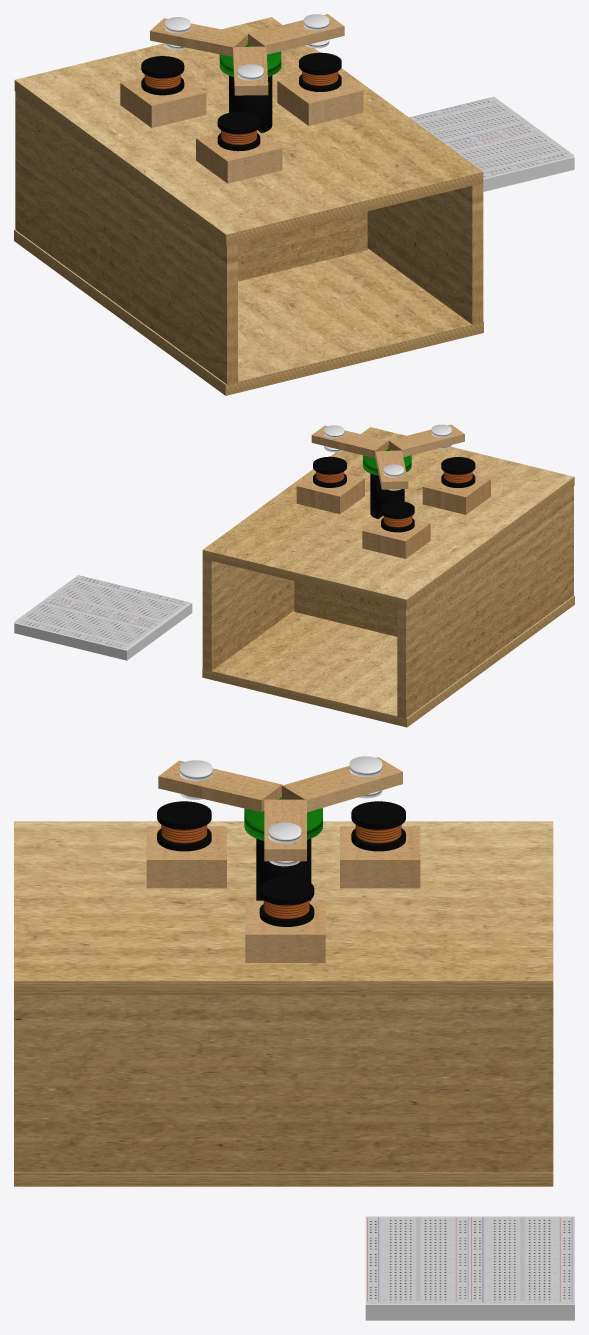
Rendered from everything.glb.
The picture shows the model from 3 angles, top to bottom: view 1: azimuth 30°, elevation 25°; view 2: azimuth 150°, elevation 25°; view 3: azimuth 270°, elevation 25°; orthographic projection. The views are drawn at different scales.
Parts seen in each view (by area): view 1: Cube.001, Cube.002, Cube, Cube.003, Plane.002, Cube.004, Cube.010, Cube.011, Cube.009, Cube.007, Cube.005, Cube.006 (+6 smaller); view 2: Cube.001, Cube.002, Cube, Plane.002, Cube.003, Cube.004, Cube.008, Cube.009, Cube.011, Cube.010, Cube.005, Cube.006 (+5 smaller); view 3: Cube.003, Cube.001, Plane.002, Cube, Cube.008, Cube.009, Cube.011, Cube.010, Cube.006, Cube.007, Cube.005, Cylinder.012 (+4 smaller).
Boxes of the visible parts, box(x1,y1,x2,y2) form: Cube.001: box(14, 17, 483, 245); Cube.002: box(15, 91, 237, 385); Cube: box(14, 230, 483, 395); Cube.003: box(367, 180, 483, 324); Plane.002: box(409, 96, 574, 177); Cube.004: box(238, 211, 367, 281); Cube.010: box(277, 72, 363, 125); Cube.011: box(120, 74, 206, 127); Cube.009: box(196, 130, 282, 183); Cube.007: box(150, 18, 247, 56); Cube.005: box(248, 14, 344, 54); Cube.006: box(233, 46, 268, 95); Cube.001: box(202, 427, 574, 608); Cube.002: box(397, 486, 573, 718); Cube: box(202, 595, 574, 727); Plane.002: box(14, 575, 188, 648); Cube.003: box(202, 556, 294, 670); Cube.004: box(294, 581, 397, 636); Cube.008: box(14, 602, 192, 660); Cube.009: box(422, 471, 490, 514); Cube.011: box(362, 515, 430, 558); Cube.010: box(296, 472, 364, 513); Cube.005: box(311, 425, 388, 458); Cube.006: box(388, 424, 464, 457); Cube.003: box(14, 995, 553, 1172); Cube.001: box(14, 821, 553, 995); Plane.002: box(367, 1217, 573, 1304); Cube: box(14, 1172, 553, 1186); Cube.008: box(365, 1216, 574, 1320); Cube.009: box(146, 826, 226, 888); Cube.011: box(340, 826, 420, 888); Cube.010: box(245, 900, 325, 962); Cube.006: box(158, 760, 282, 812); Cube.007: box(282, 757, 402, 812); Cube.005: box(264, 799, 306, 861); Cylinder.012: box(259, 877, 314, 905).
Bounding box in the file's own units: 12.86 × 6.31 × 10.05.
Materials: 19 (5 with a texture image).
